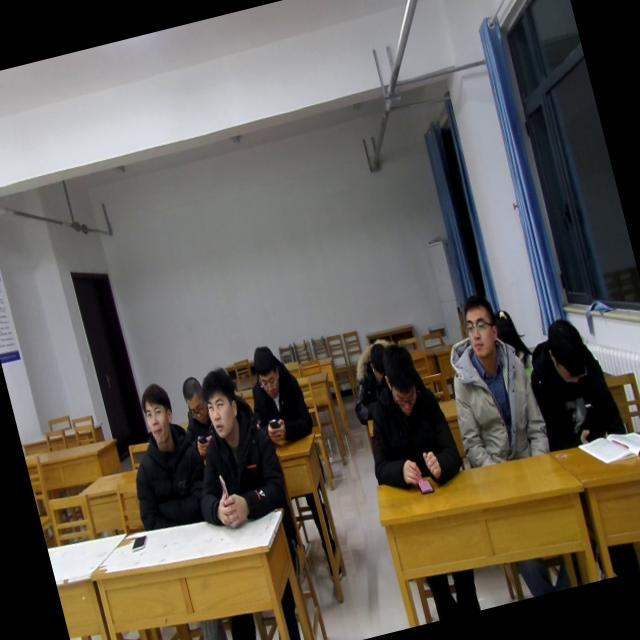bow: (237, 336, 319, 453), (337, 331, 412, 426), (170, 373, 222, 465)
down: (536, 310, 594, 391), (374, 338, 429, 422), (244, 336, 286, 402), (354, 336, 390, 384), (175, 373, 208, 423)
lookup: (190, 360, 248, 443), (454, 290, 504, 364), (132, 374, 178, 447)
sit: (426, 285, 554, 477), (166, 358, 295, 538), (344, 332, 469, 503), (106, 374, 215, 544), (516, 306, 628, 455)
